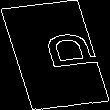P_W: (8, 32, 102, 78)
